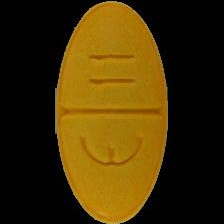50090-0529: (0, 0, 224, 224)
